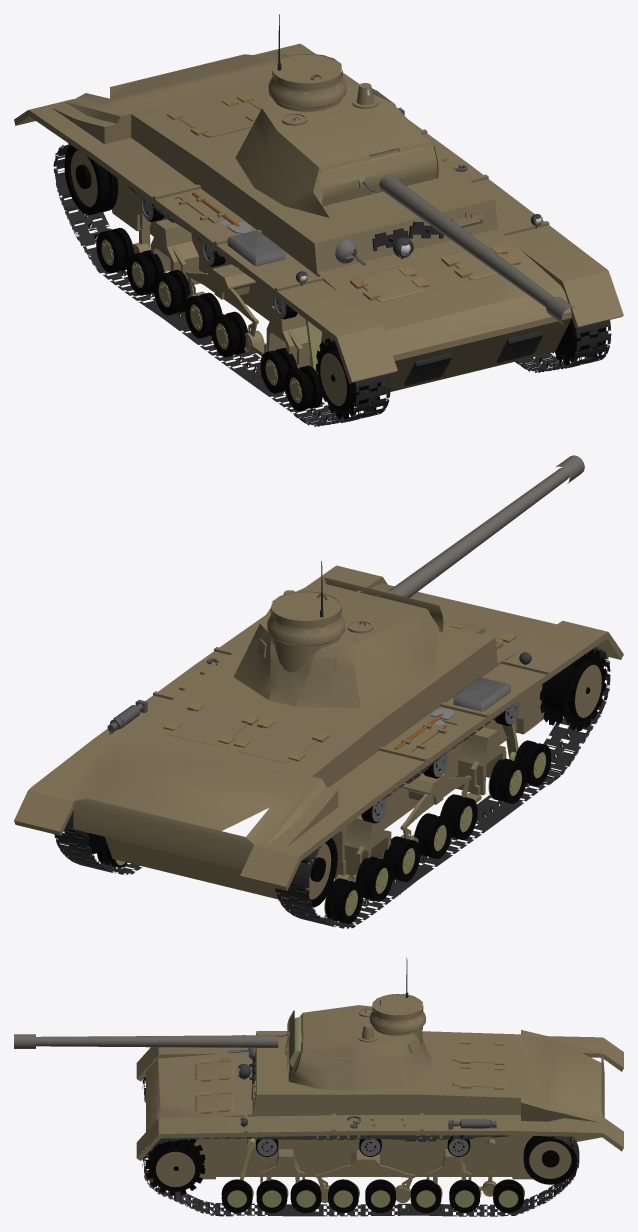
3 views of the same model, one above another, from view 1: azimuth 30°, elevation 25°; view 2: azimuth 150°, elevation 25°; view 3: azimuth 270°, elevation 25° (orthographic). The views are drawn at different scales.
Visible parts, largest first — view 1: hull, wheels, turret, tracks, gun; view 2: hull, wheels, turret, tracks, gun; view 3: hull, wheels, turret, tracks, gun.
Part boxes in pixels (x1,y1,x2,y2): hull: [14, 43, 623, 391]; wheels: [64, 145, 606, 419]; turret: [235, 14, 441, 217]; tracks: [53, 143, 611, 426]; gun: [318, 145, 575, 324]; hull: [14, 565, 623, 899]; wheels: [64, 650, 606, 923]; turret: [233, 561, 439, 708]; tracks: [54, 647, 610, 928]; gun: [323, 455, 584, 632]; hull: [136, 994, 623, 1202]; wheels: [145, 1089, 576, 1213]; turret: [288, 957, 431, 1090]; tracks: [142, 1056, 579, 1216]; gun: [14, 1010, 301, 1071].
Size of the model in its own units: 2.57 by 2.61 by 6.93.
